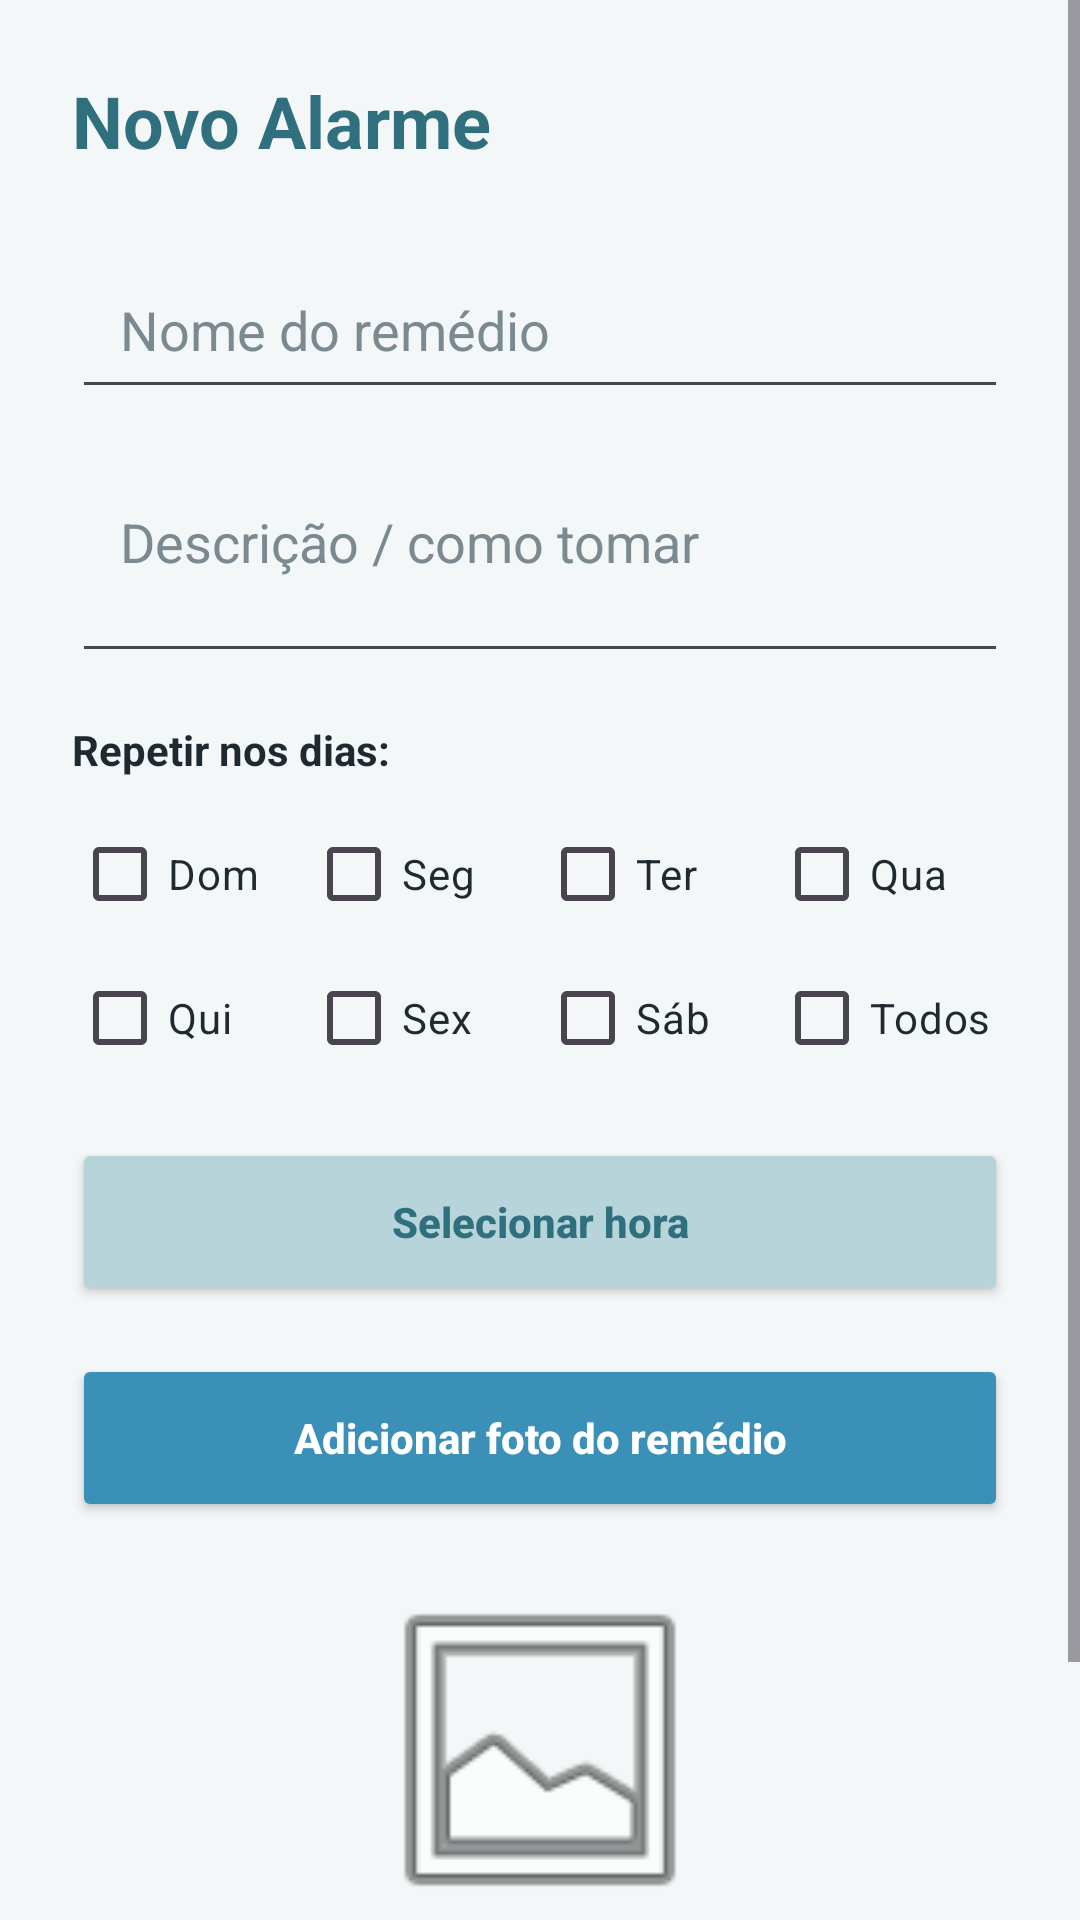

Where icons sit on this 1080px×1920px app screen, as (x1, y1, x2, y2):
Foto do medicamento: (404, 1614, 676, 1886)
